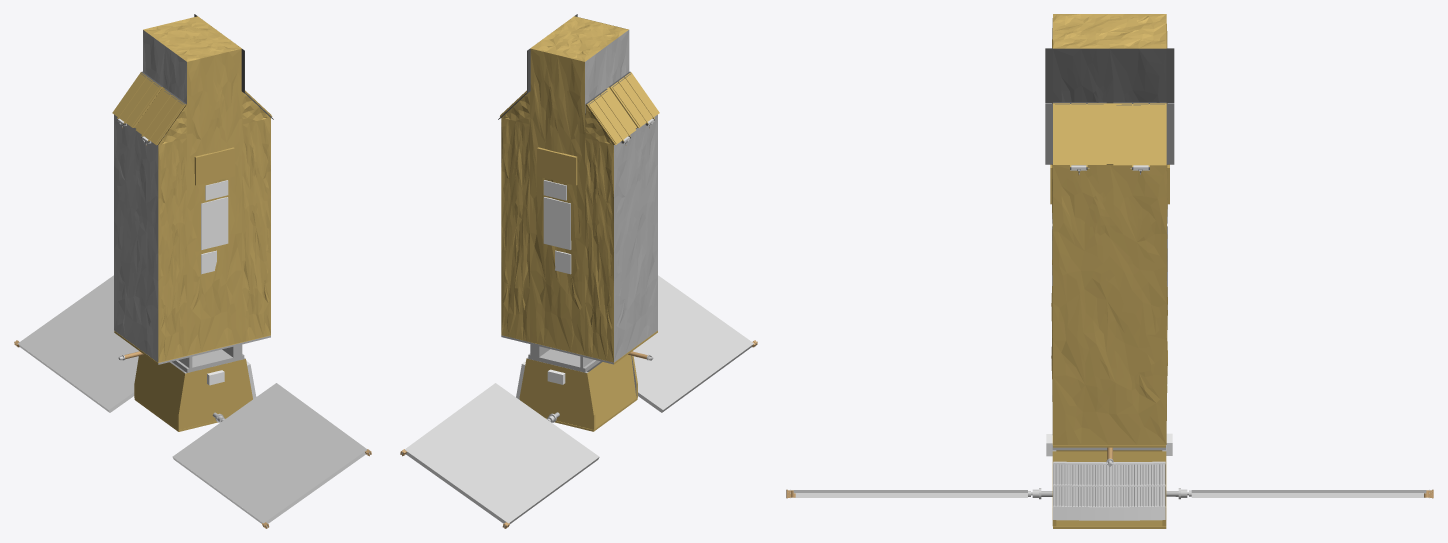
File: Far Ultraviolet Spectroscopic Explorer.glb
3 views of the same model, side by side, from view 1: azimuth 30°, elevation 25°; view 2: azimuth 150°, elevation 25°; view 3: azimuth 270°, elevation 25° (orthographic). The views are drawn at different scales.
Parts seen in each view (by area): view 1: Layer_0; view 2: Layer_0; view 3: Layer_0.
Part boxes in pixels (x1,y1,x2,y2): Layer_0: (14, 14, 371, 528); Layer_0: (400, 14, 757, 528); Layer_0: (786, 14, 1433, 528).
Bounding box in the file's own units: 0.3964 × 1.01 × 1.19.
